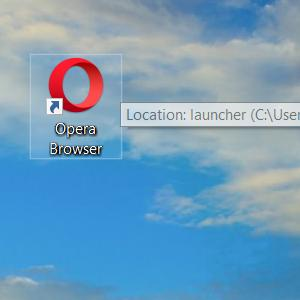opera: (46, 57, 103, 115)
